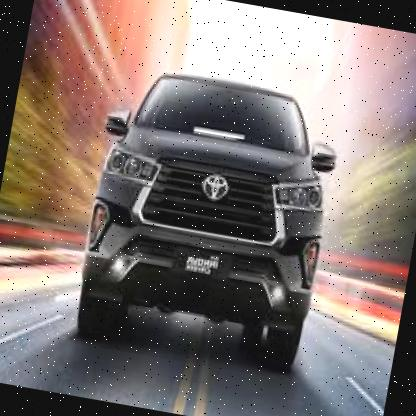car: (59, 51, 359, 392)
